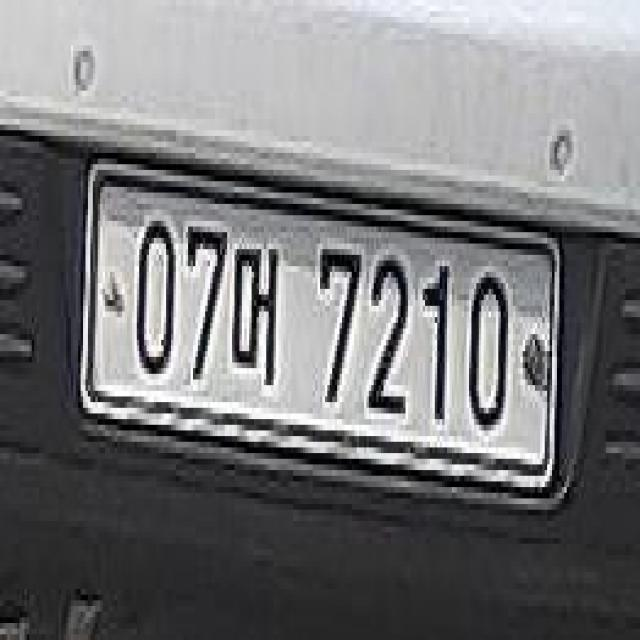illegal_plate: (80, 145, 562, 517)
